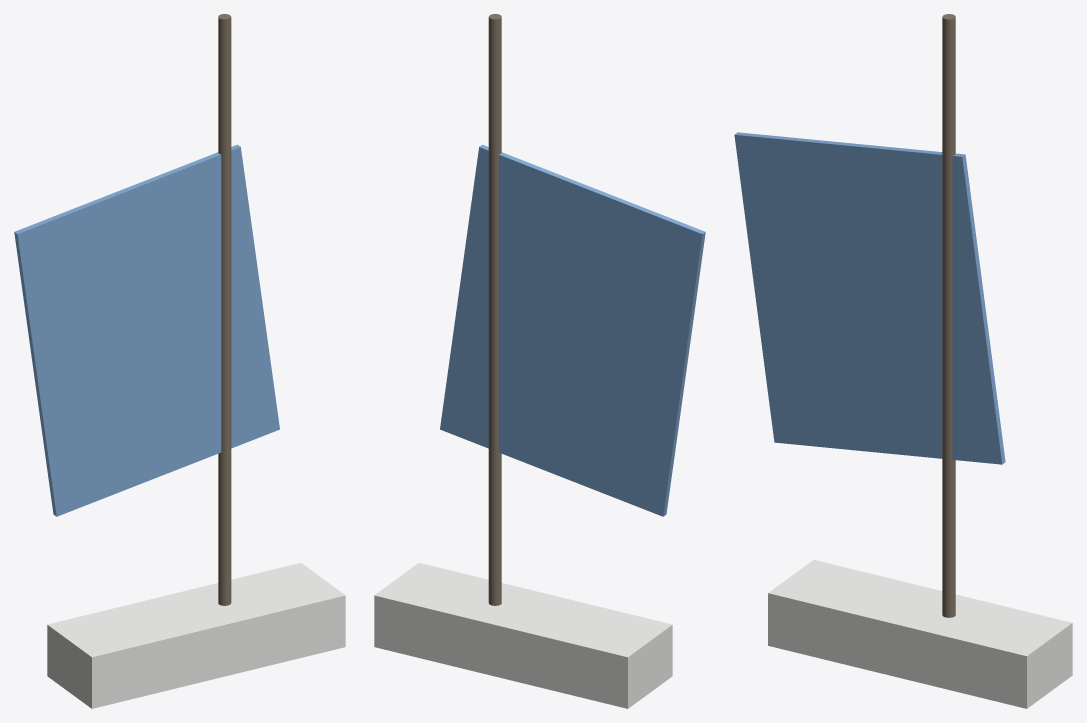
File: sail_billboard_2.glb
3 views of the same model, side by side, from view 1: azimuth 30°, elevation 25°; view 2: azimuth 150°, elevation 25°; view 3: azimuth 330°, elevation 25° (orthographic). The views are drawn at different scales.
Visible parts, largest first — view 1: sail_cloth, sail_hull, sail_mast; view 2: sail_cloth, sail_hull, sail_mast; view 3: sail_cloth, sail_hull, sail_mast.
Boxes of the visible parts, x1,y1,x2,y2 form: sail_cloth: (14, 144, 279, 516); sail_hull: (47, 562, 345, 708); sail_mast: (218, 14, 231, 605); sail_cloth: (440, 144, 705, 516); sail_hull: (374, 562, 672, 708); sail_mast: (488, 14, 501, 605); sail_cloth: (734, 132, 1005, 464); sail_hull: (768, 560, 1072, 708); sail_mast: (942, 14, 955, 617).
Size of the model in its own units: 2.18 by 4.32 by 0.55.
